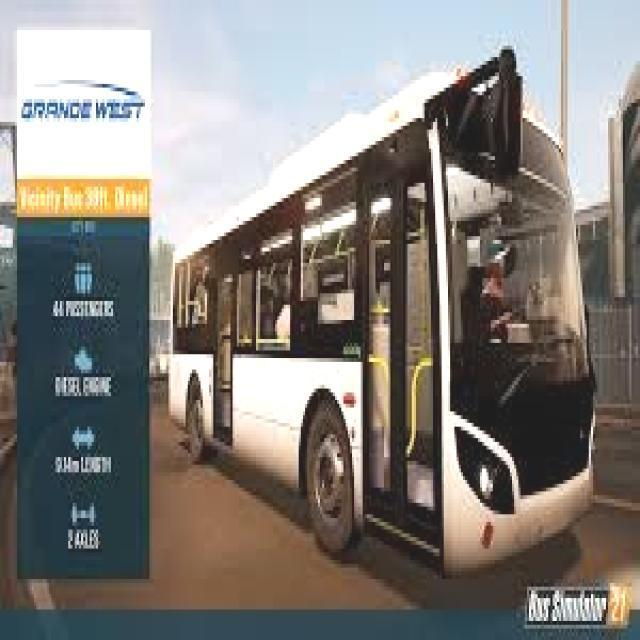Bus: (163, 68, 601, 582)
